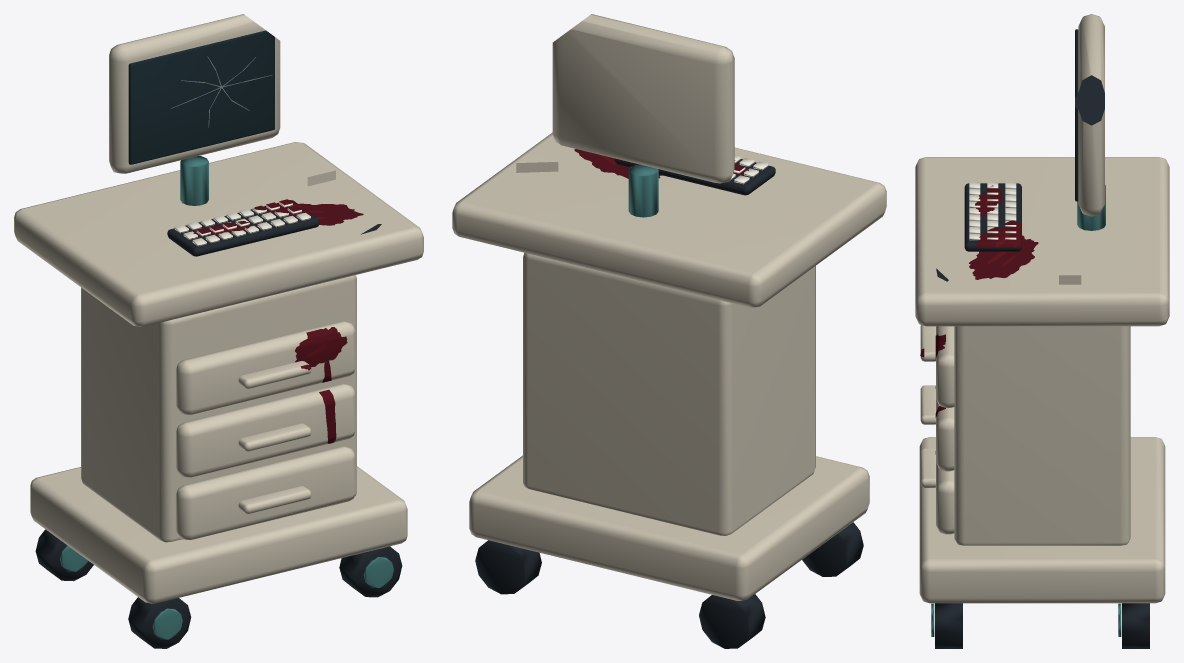
The model's file is charting_workstation.glb.
The picture shows the model from 3 angles, left to right: view 1: azimuth 30°, elevation 25°; view 2: azimuth 150°, elevation 25°; view 3: azimuth 270°, elevation 25°; orthographic projection. The views are drawn at different scales.
Parts seen in each view (by area): view 1: charting_workstation_Outbreak_Static; view 2: charting_workstation_Outbreak_Static; view 3: charting_workstation_Outbreak_Static.
Part boxes in pixels (<box>): charting_workstation_Outbreak_Static: <box>14,14,423,648</box>; charting_workstation_Outbreak_Static: <box>452,14,886,648</box>; charting_workstation_Outbreak_Static: <box>915,14,1169,648</box>.
Bounding box in the file's own units: 0.83 × 1.46 × 0.62.
